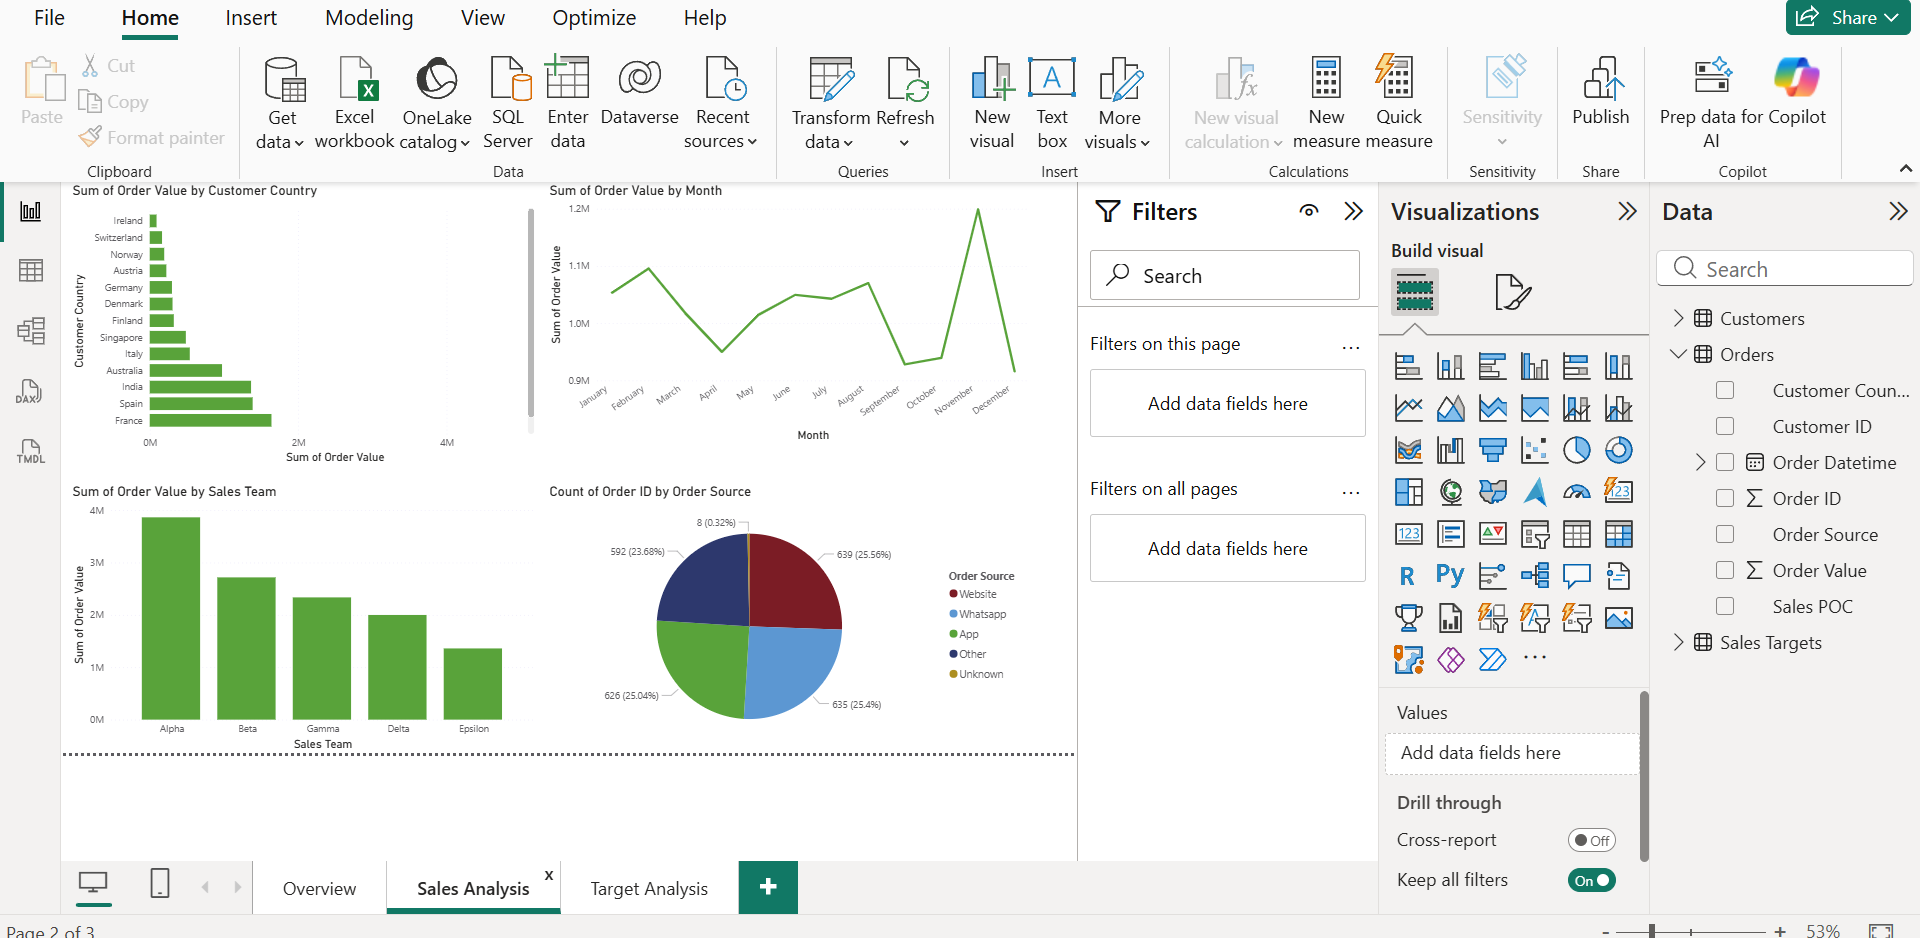

What the dashboard file says about the page in this screenshot:
{"tool":"powerbi","page":{"name":"Sales Analysis","canvas":[1280,720],"ordinal":1},"visuals":[{"type":"clusteredBarChart","fields":{"Category":["Orders.Customer Country"],"Y":["Sum(Orders.Order Value)"]},"box":[9.4,0,591.5,359.1],"z":0},{"type":"columnChart","fields":{"Category":["Sales Targets.Sales Team"],"Y":["Sum(Orders.Order Value)"]},"box":[9.4,379.8,591.5,340.2],"z":1},{"type":"lineChart","fields":{"Category":["Orders.Order Datetime.Variation.Date Hierarchy.Month"],"Y":["Sum(Orders.Order Value)"]},"box":[610.4,0,614.2,330.7],"z":2},{"type":"pieChart","fields":{"Category":["Orders.Order Source"],"Y":["CountNonNull(Orders.Order ID)"]},"box":[610,380,614,340],"z":3}]}

Visuals, with their boxes on the page's 1280x720 design canvas (x1, y1, x2, y2). These are canvas units, not pixel positions in the 1920x938 screenshot, which may show the page scaled, cropped or inside an application window:
clusteredBarChart - Orders.Customer Country x Sum(Orders.Order Value): region(9, 0, 601, 359)
columnChart - Sales Targets.Sales Team x Sum(Orders.Order Value): region(9, 380, 601, 720)
lineChart - Orders.Order Datetime.Variation.Date Hierarchy.Month x Sum(Orders.Order Value): region(610, 0, 1225, 331)
pieChart - Orders.Order Source x CountNonNull(Orders.Order ID): region(610, 380, 1224, 720)
